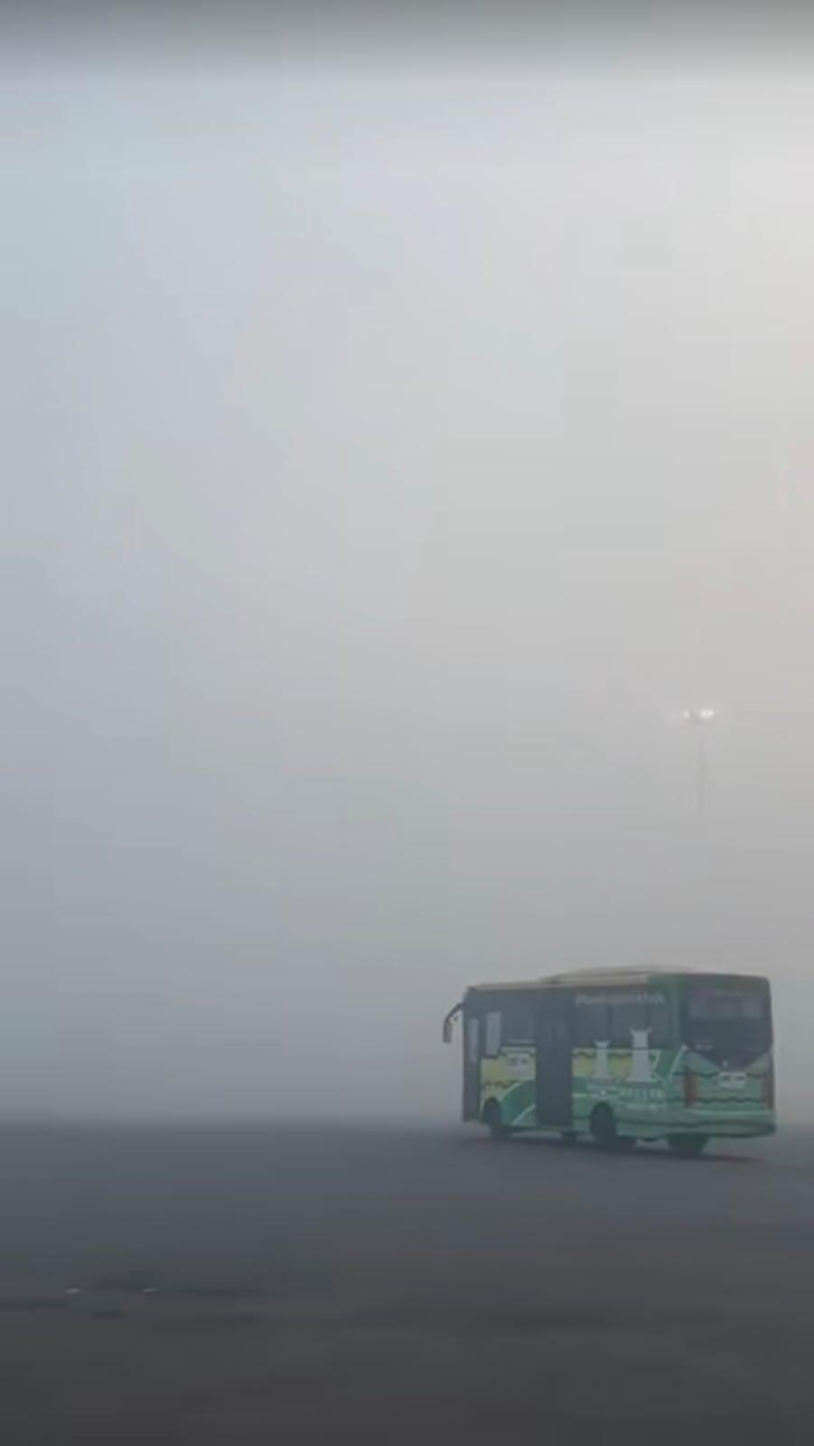Deteksi-Objek-Citra-Berasap: (0, 0, 813, 1124)
Kendaraan: (442, 965, 778, 1158)
